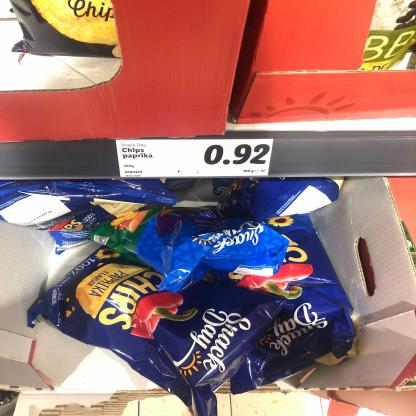prtg: (117, 140, 275, 178)
